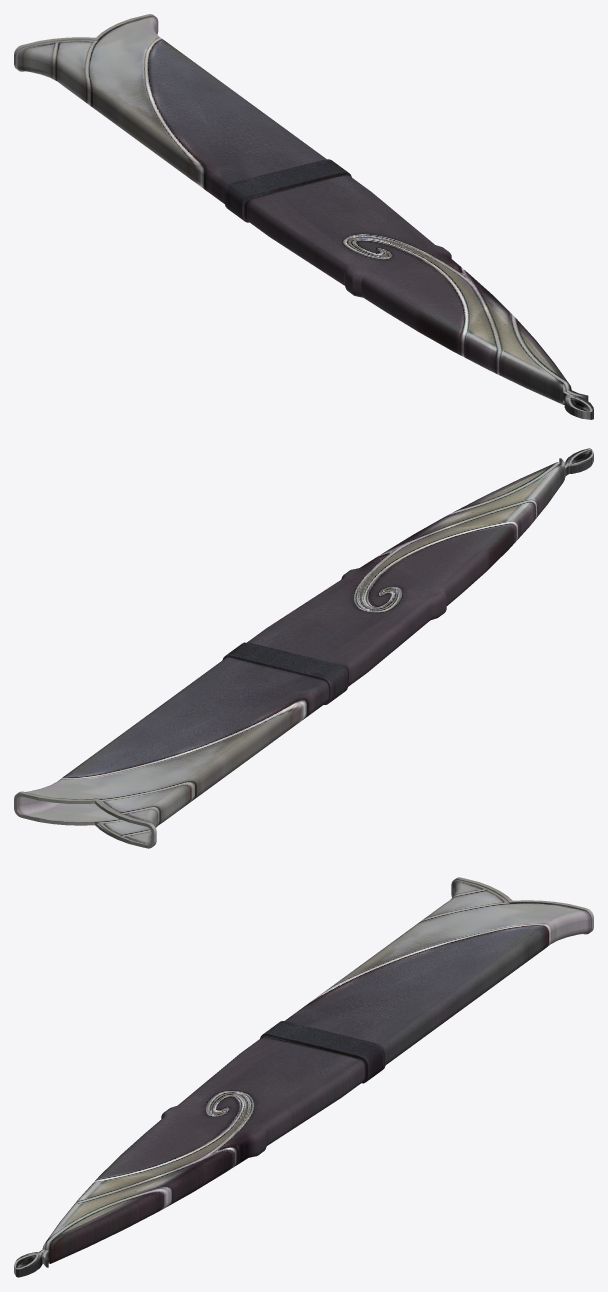
Rendered from sting scabbard.dae.
3 views of the same model, one above another, from view 1: azimuth 30°, elevation 25°; view 2: azimuth 150°, elevation 25°; view 3: azimuth 330°, elevation 25° (orthographic).
Parts seen in each view (by area): view 1: SketchUp; view 2: SketchUp; view 3: SketchUp.
Boxes of the visible parts, left/top/right/bottom form: SketchUp: left=14, top=14, right=593, bottom=419; SketchUp: left=14, top=448, right=593, bottom=848; SketchUp: left=14, top=877, right=593, bottom=1277.
Bounding box in the file's own units: 4.61 × 28.63 × 0.8467.
Materials: 1 (1 with a texture image).
